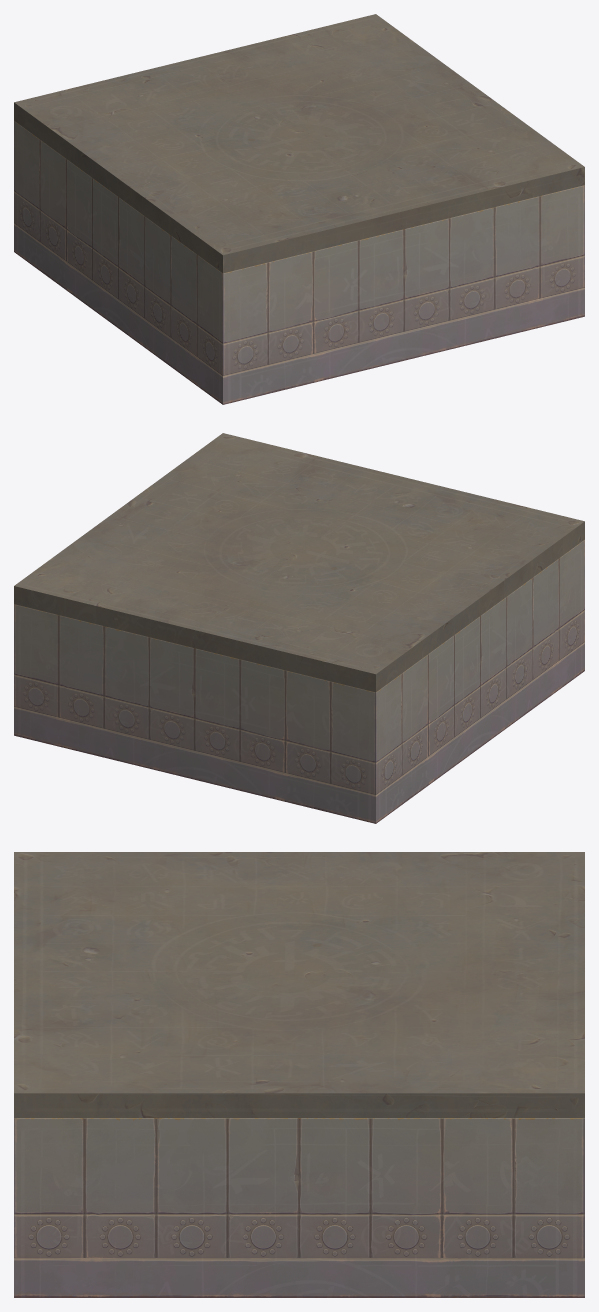
File: Build_AscendantWall_Rock.fbx
3 renders of one model, top to bottom at view 1: azimuth 30°, elevation 25°; view 2: azimuth 150°, elevation 25°; view 3: azimuth 270°, elevation 25°, orthographic. The views are drawn at different scales.
Visible parts, largest first — view 1: Build_AscendantWall_Rock; view 2: Build_AscendantWall_Rock; view 3: Build_AscendantWall_Rock.
Boxes of the visible parts, bbox=[...] form: Build_AscendantWall_Rock: bbox=[14, 14, 584, 404]; Build_AscendantWall_Rock: bbox=[14, 433, 584, 823]; Build_AscendantWall_Rock: bbox=[14, 852, 584, 1297].
Size of the model in its own units: 400 by 158 by 400.
